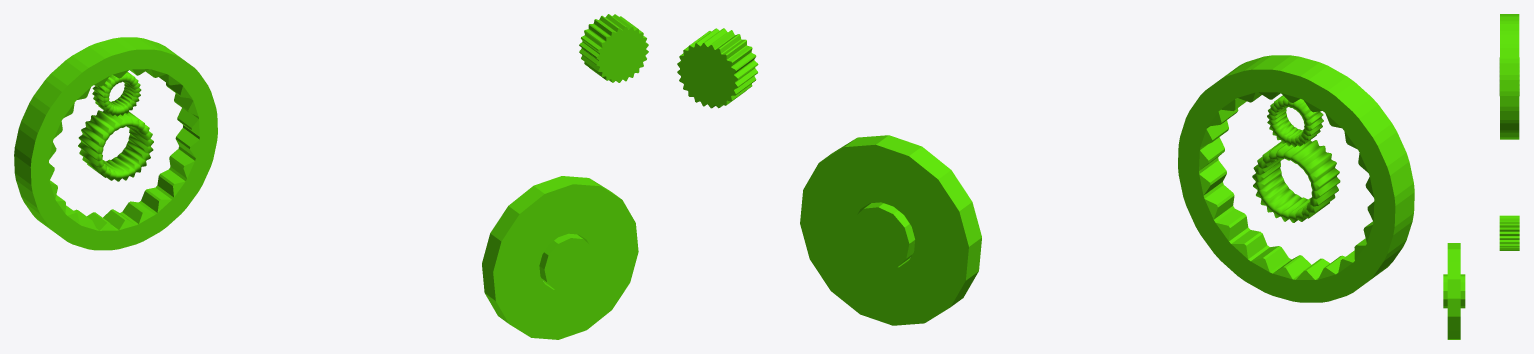
The model's file is Rueda.fbx.
3 views of the same model, side by side, from view 1: azimuth 30°, elevation 25°; view 2: azimuth 150°, elevation 25°; view 3: azimuth 270°, elevation 25° (orthographic). The views are drawn at different scales.
Parts seen in each view (by area): view 1: Cube.010; view 2: Cube.010; view 3: Cube.010.
Boxes of the visible parts, box(x1,y1,x2,y2) form: Cube.010: box(14, 14, 648, 339); Cube.010: box(677, 28, 1414, 325); Cube.010: box(1443, 14, 1519, 339).
Size of the model in its own units: 1038 by 562 by 192.
